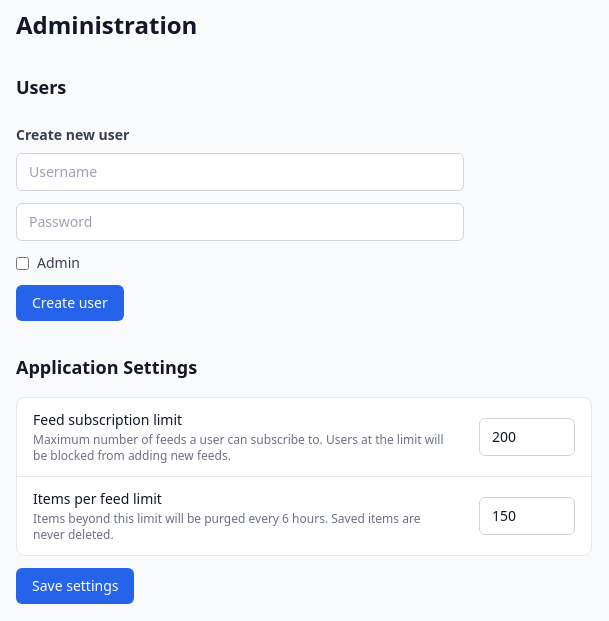
Test: Administration › shows error when a limit is invalid
Step 1. Replace the text in the number field in the row of "Feed subscription limit" with "0" → (527, 437), box [479, 418, 575, 456]
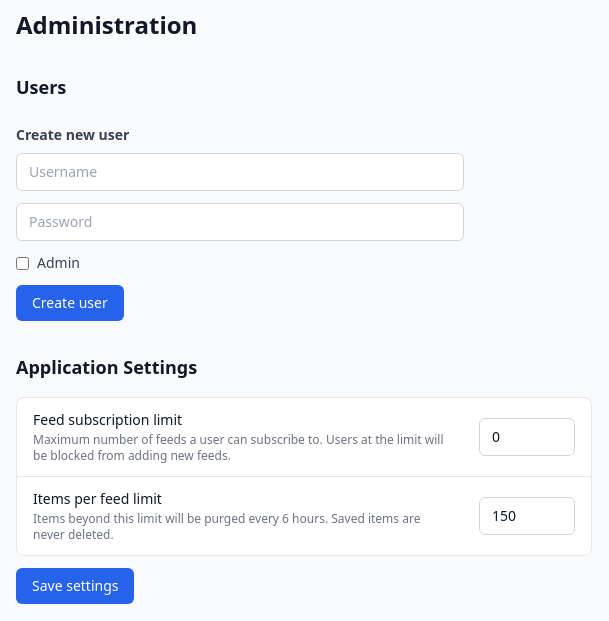
Step 2. Click the button "Save settings" → (75, 586), box [16, 568, 134, 604]
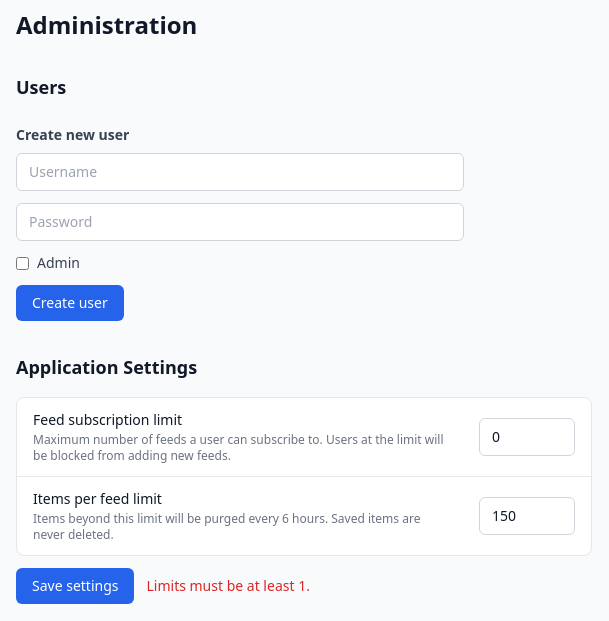
Check: the text "Limits must be at least 1." is shown, box [146, 576, 310, 596]
